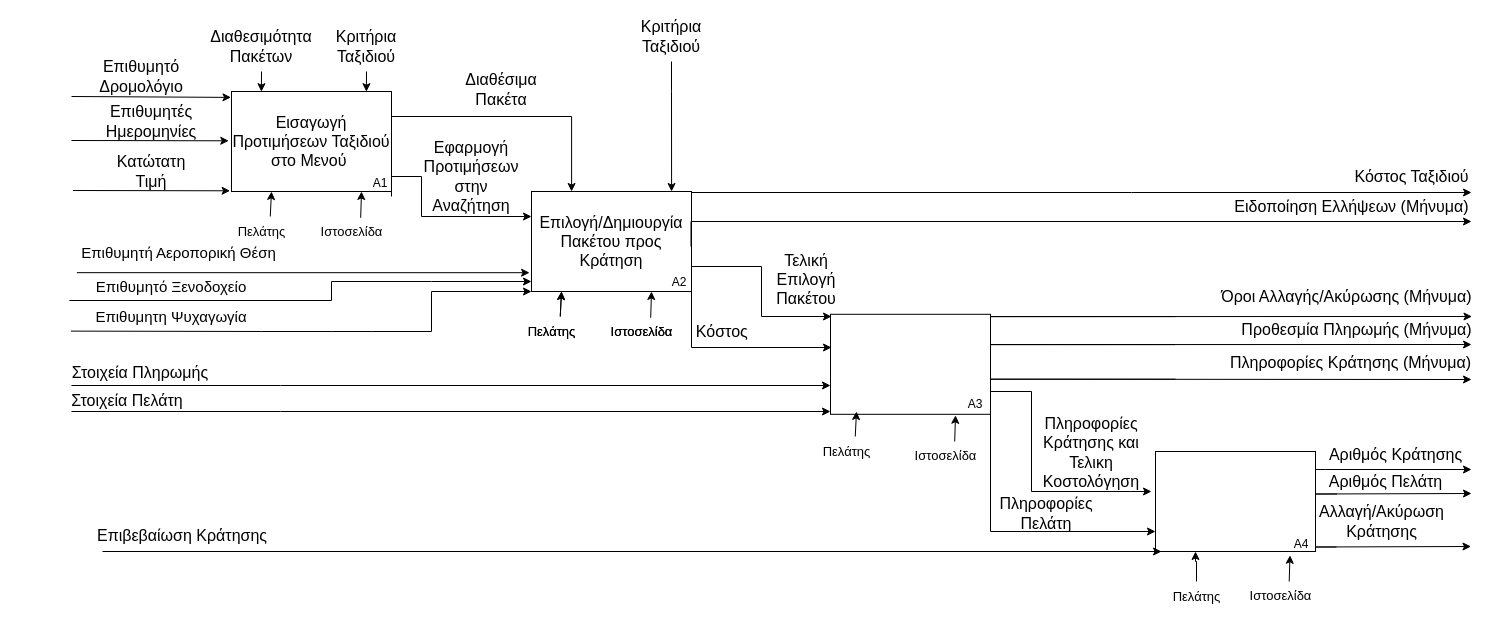
The diagram is 1498 pixels wide and 628 high, and some of its shapes have lost their labels. The shapes that lost their labels are listed below. From the top down, each one's box as (x1, y1, x2, y2) in pixels, then its label:
(830, 313, 990, 414): Κράτηση Πακέτου
(1154, 450, 1316, 552): Επιβεβαίωση και Ολοκλήρωση Κράτησης
